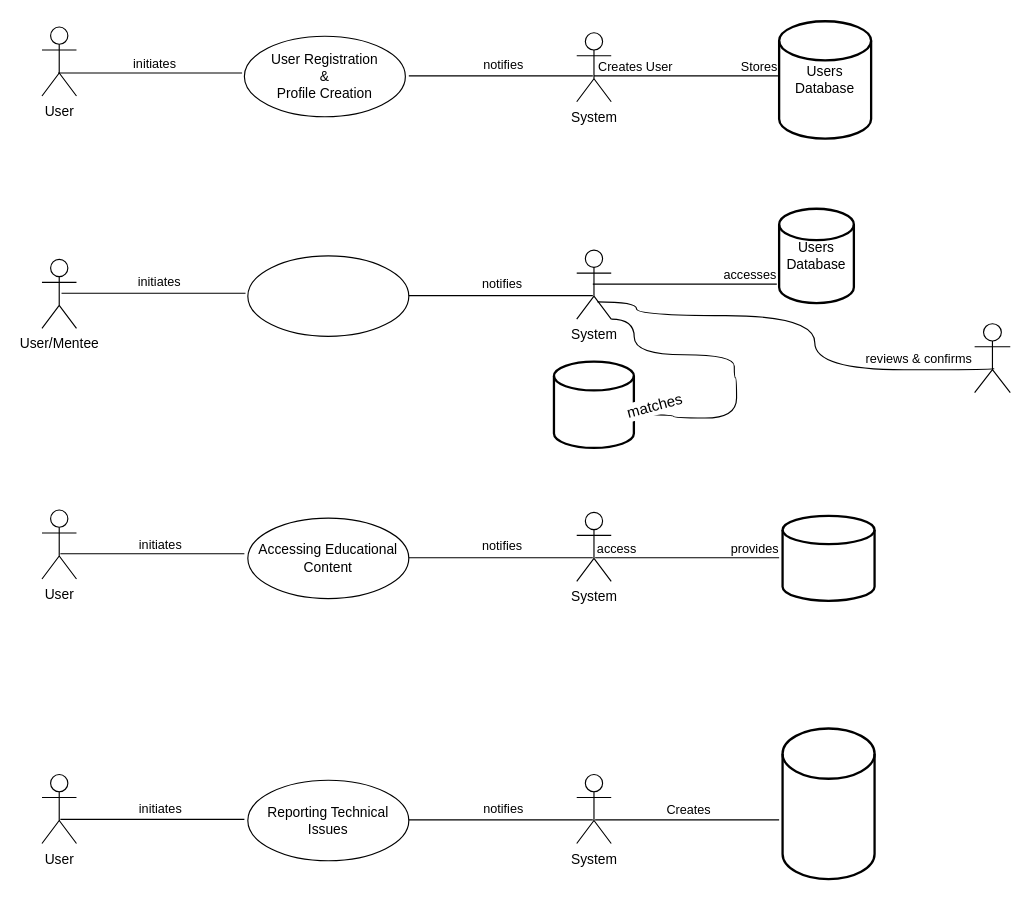
Some shapes in this 1034 by 899 pixel diagram are drawn without their labels. The shapes that lost their labels are listed below. From the top down, each one's centre as x and y in pixels, then its label:
At point 328,295: "Mentor-Matching Process".
At point 991,358: "Mentor".
At point 593,404: "Mentors Database".
At point 828,557: "Educational Content".
At point 828,803: "Support Ticket's Database".
